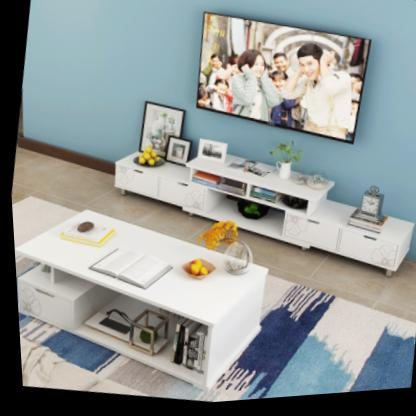Carpet: (211, 290, 412, 404)
Ceramic floor: (9, 146, 208, 240)
TV stand: (111, 139, 412, 283)
